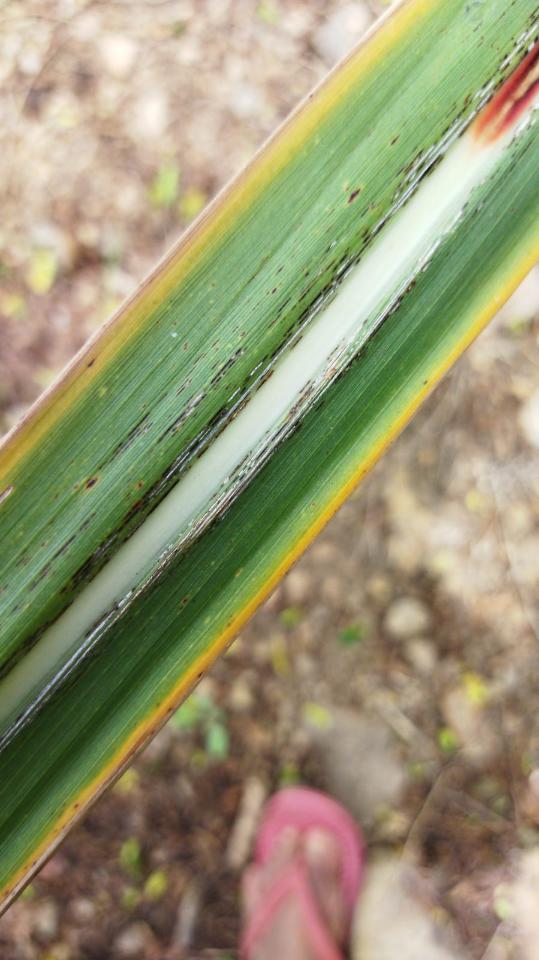RedRot: (468, 36, 539, 145)
Rust: (0, 1, 539, 690), (130, 377, 333, 604), (68, 323, 251, 495), (12, 594, 140, 729), (321, 273, 422, 388), (7, 508, 105, 623), (489, 120, 537, 189), (48, 798, 83, 836), (0, 600, 24, 629), (343, 183, 369, 208), (8, 545, 32, 572), (471, 195, 491, 225), (261, 277, 286, 298), (462, 0, 488, 19), (175, 593, 194, 617), (2, 881, 21, 903), (419, 255, 438, 273), (470, 19, 488, 36), (0, 578, 14, 596), (389, 133, 403, 150), (223, 612, 237, 629), (272, 264, 288, 278), (83, 356, 99, 369), (21, 859, 39, 870), (458, 201, 473, 214), (246, 273, 259, 287), (476, 32, 485, 51), (180, 337, 191, 352), (38, 538, 50, 551), (258, 255, 271, 267), (250, 300, 261, 313), (196, 667, 205, 682), (124, 484, 131, 502), (442, 249, 453, 260), (137, 478, 145, 490), (423, 377, 431, 389), (508, 206, 519, 214), (168, 361, 176, 372), (172, 319, 180, 330), (152, 700, 162, 708), (209, 280, 217, 290), (153, 316, 161, 325), (499, 11, 507, 20), (290, 251, 297, 260), (129, 466, 136, 474), (512, 0, 519, 8), (491, 42, 495, 51)
Yellow: (0, 227, 539, 911), (0, 0, 442, 490)
